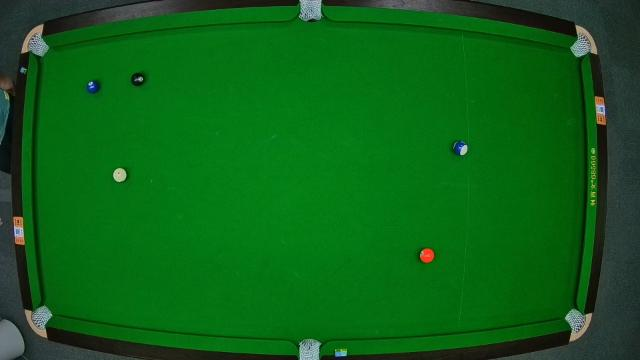bag1: (28, 35, 44, 55)
bag2: (298, 1, 324, 23)
bag3: (572, 38, 592, 56)
bag4: (31, 310, 54, 330)
bag5: (299, 342, 321, 360)
bag6: (566, 310, 586, 330)
ball0: (112, 166, 128, 184)
ball10: (452, 139, 470, 156)
ball2: (86, 80, 102, 94)
ball5: (420, 248, 436, 264)
ball8: (130, 71, 146, 87)
